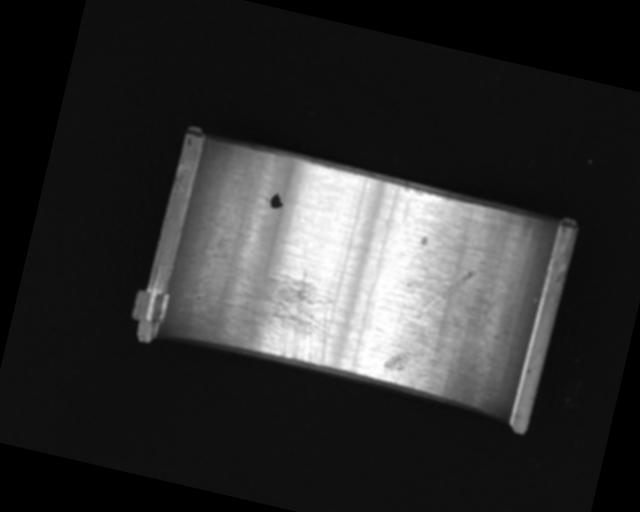blot: (267, 190, 286, 211)
bruise: (382, 346, 414, 375), (418, 233, 429, 247)
nick: (418, 262, 474, 330)
scratch: (193, 248, 344, 367)
